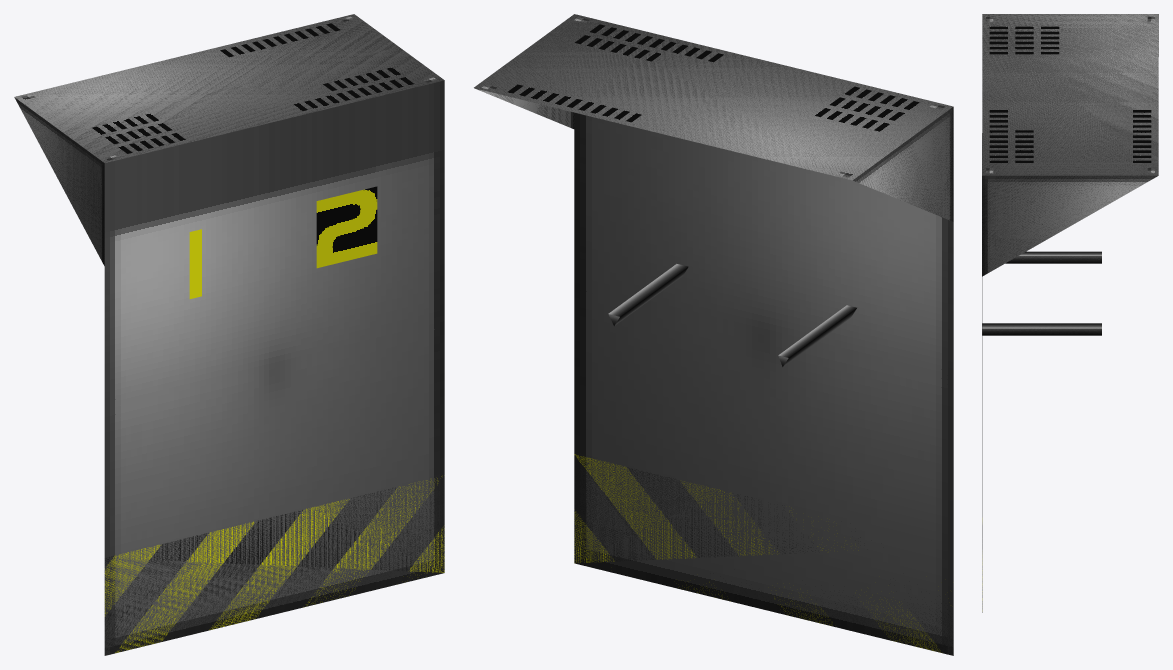
The model's file is primary_133.glb.
3 views of the same model, side by side, from view 1: azimuth 30°, elevation 25°; view 2: azimuth 150°, elevation 25°; view 3: azimuth 270°, elevation 25° (orthographic). The views are drawn at different scales.
Visible parts, largest first — view 1: Object; view 2: Object; view 3: Object.
Part boxes in pixels (x1,y1,x2,y2): Object: (14, 14, 444, 655); Object: (474, 14, 953, 655); Object: (982, 14, 1158, 612).
Size of the model in its own units: 0.5453 by 0.755 by 0.2517.
9 materials, 9 textured.
